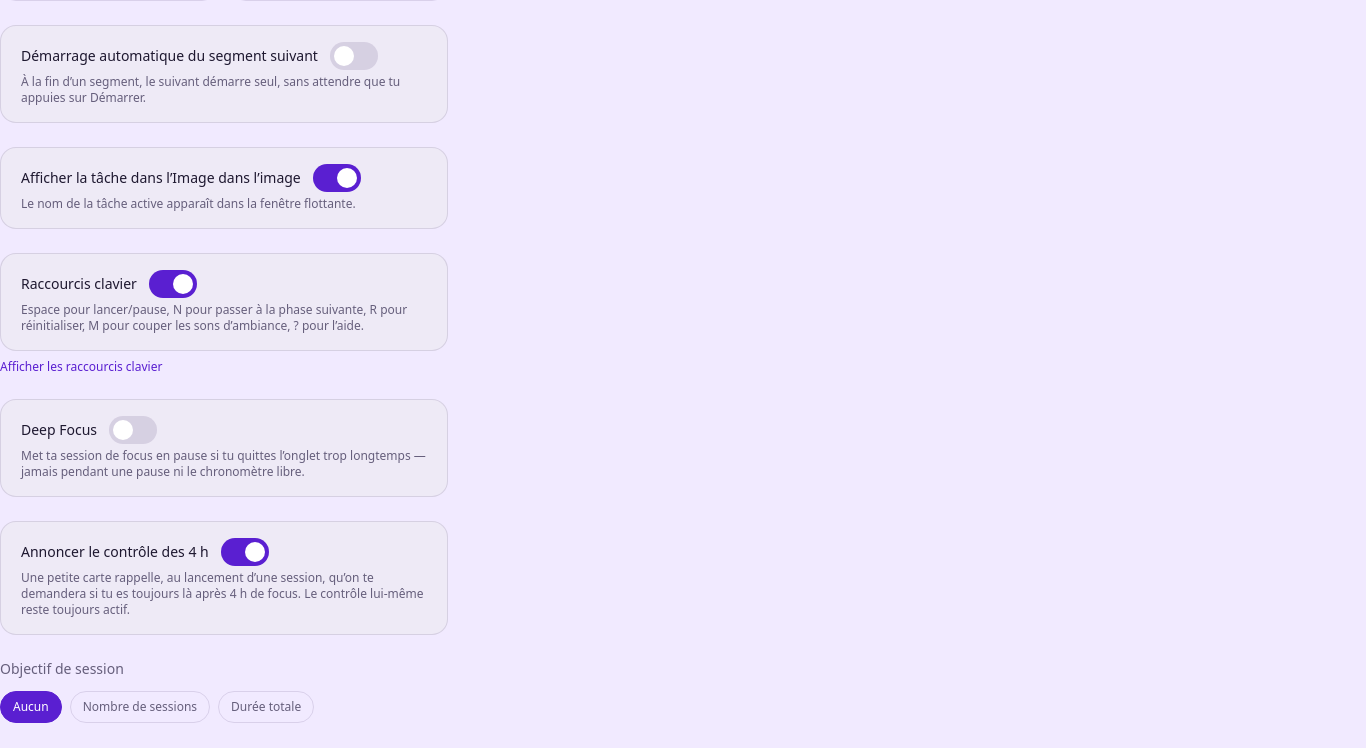
Test: TimerPage — durées Pomodoro et démarrage automatique › le lien « Afficher les raccourcis clavier » ouvre l’aide (LOT G1)
(page scrolled)
Click the button "Afficher les raccourcis clavier": [81, 367] box [0,359,162,375]
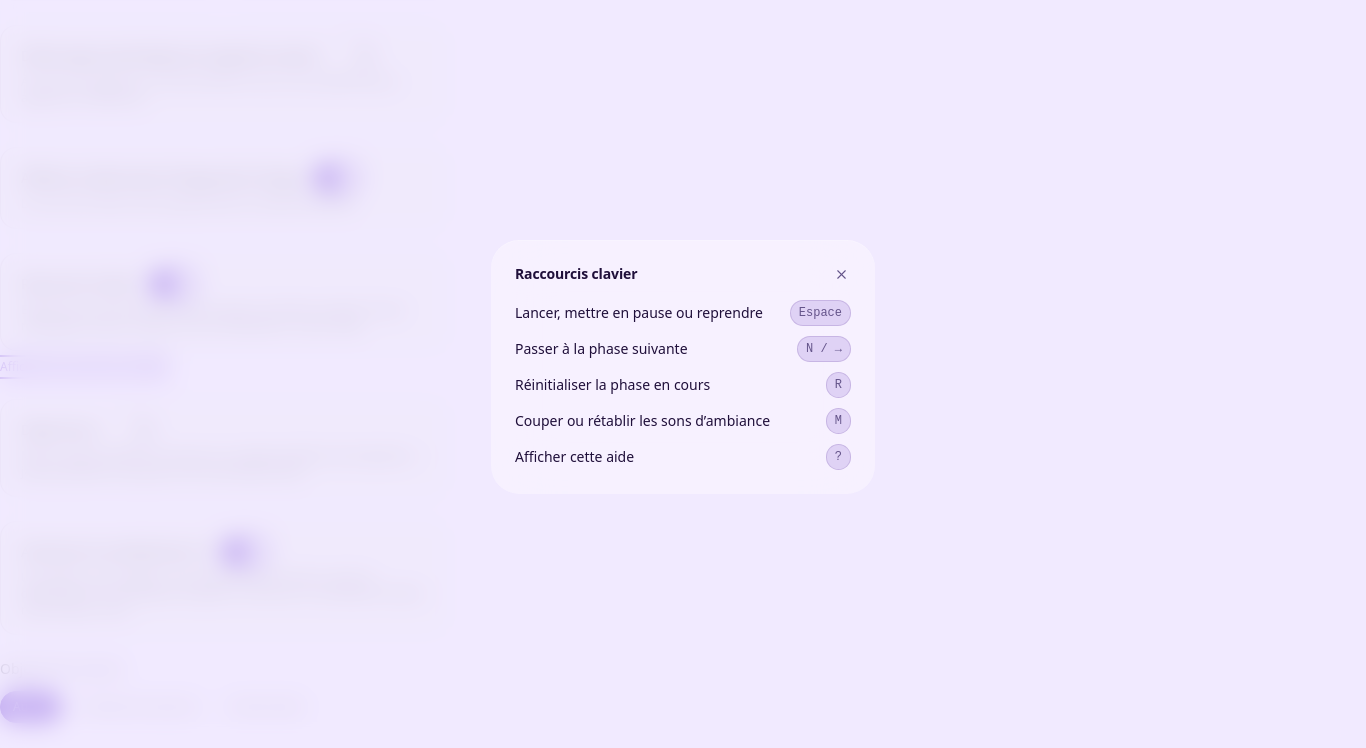
Now the dialog "Raccourcis clavier" is shown, box [491,240,875,494]
